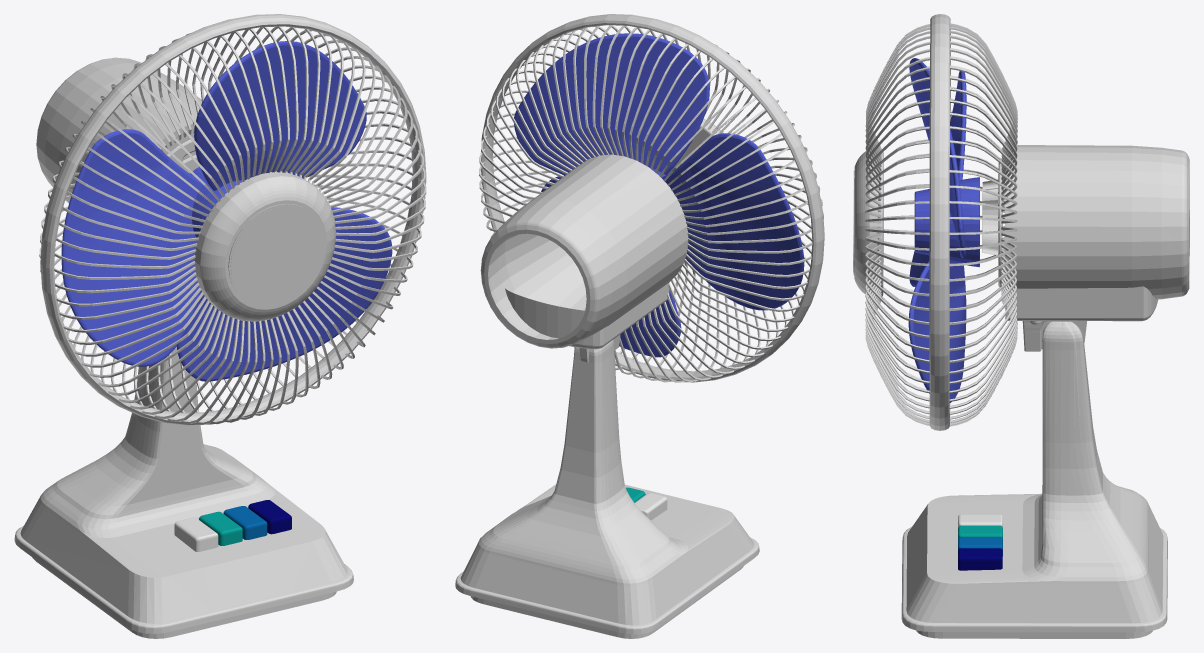
File: sweethome3d-blendswap-cc-0-table-fan.glb
3 views of the same model, side by side, from view 1: azimuth 30°, elevation 25°; view 2: azimuth 150°, elevation 25°; view 3: azimuth 270°, elevation 25° (orthographic). The views are drawn at different scales.
Visible parts, largest first — view 1: BODY_fan.001, GRILL_Cube.002, FEATHER.000_FEATHER.006, FEATHER.002_FEATHER.006, FEATHER.004_FEATHER.006, BUTTON_01_fan.009, BUTTON_03_fan.007, BUTTON_02_fan.008, BUTTON_04_fan.006, Cylinder.003; view 2: BODY_fan.001, GRILL_Cube.002, FEATHER.002_FEATHER.006, FEATHER.000_FEATHER.006, FEATHER.004_FEATHER.006, BUTTON_01_fan.009; view 3: BODY_fan.001, GRILL_Cube.002, FEATHER.004_FEATHER.006, Cylinder.003, FEATHER.002_FEATHER.006, FEATHER.000_FEATHER.006, BUTTON_04_fan.006, BUTTON_03_fan.007, BUTTON_01_fan.009, BUTTON_02_fan.008.
Part boxes in pixels (bbox=[...]): BODY_fan.001: bbox=[14, 14, 426, 638]; GRILL_Cube.002: bbox=[39, 26, 426, 424]; FEATHER.000_FEATHER.006: bbox=[61, 129, 202, 366]; FEATHER.002_FEATHER.006: bbox=[194, 41, 366, 190]; FEATHER.004_FEATHER.006: bbox=[176, 207, 392, 381]; BUTTON_01_fan.009: bbox=[174, 517, 218, 551]; BUTTON_03_fan.007: bbox=[223, 506, 267, 539]; BUTTON_02_fan.008: bbox=[199, 511, 242, 545]; BUTTON_04_fan.006: bbox=[248, 500, 291, 534]; Cylinder.003: bbox=[190, 167, 241, 237]; BODY_fan.001: bbox=[455, 14, 824, 638]; GRILL_Cube.002: bbox=[479, 25, 824, 382]; FEATHER.002_FEATHER.006: bbox=[514, 33, 709, 175]; FEATHER.000_FEATHER.006: bbox=[661, 133, 804, 310]; FEATHER.004_FEATHER.006: bbox=[541, 175, 681, 357]; BUTTON_01_fan.009: bbox=[634, 493, 667, 520]; BODY_fan.001: bbox=[853, 14, 1189, 638]; GRILL_Cube.002: bbox=[865, 23, 1017, 426]; FEATHER.004_FEATHER.006: bbox=[908, 259, 966, 402]; Cylinder.003: bbox=[914, 177, 979, 267]; FEATHER.002_FEATHER.006: bbox=[909, 58, 965, 257]; FEATHER.000_FEATHER.006: bbox=[909, 71, 966, 286]; BUTTON_04_fan.006: bbox=[958, 548, 1002, 570]; BUTTON_03_fan.007: bbox=[958, 537, 1002, 556]; BUTTON_01_fan.009: bbox=[958, 514, 1002, 527]; BUTTON_02_fan.008: bbox=[958, 525, 1002, 539].
Bounding box in the file's own units: 27.13 × 40.09 × 21.86.
